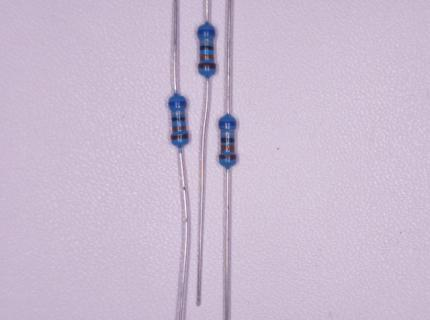Black band: (221, 138, 234, 143), (200, 46, 213, 50), (172, 117, 185, 121)
Blue band: (198, 29, 215, 35), (168, 101, 186, 106), (219, 121, 237, 126)
Brown band: (198, 63, 216, 69), (219, 155, 237, 160), (171, 134, 188, 139)
Grey band: (200, 40, 213, 44), (171, 111, 184, 115), (221, 132, 234, 136)
Orange band: (221, 145, 235, 152), (200, 55, 213, 60), (172, 126, 185, 131)
